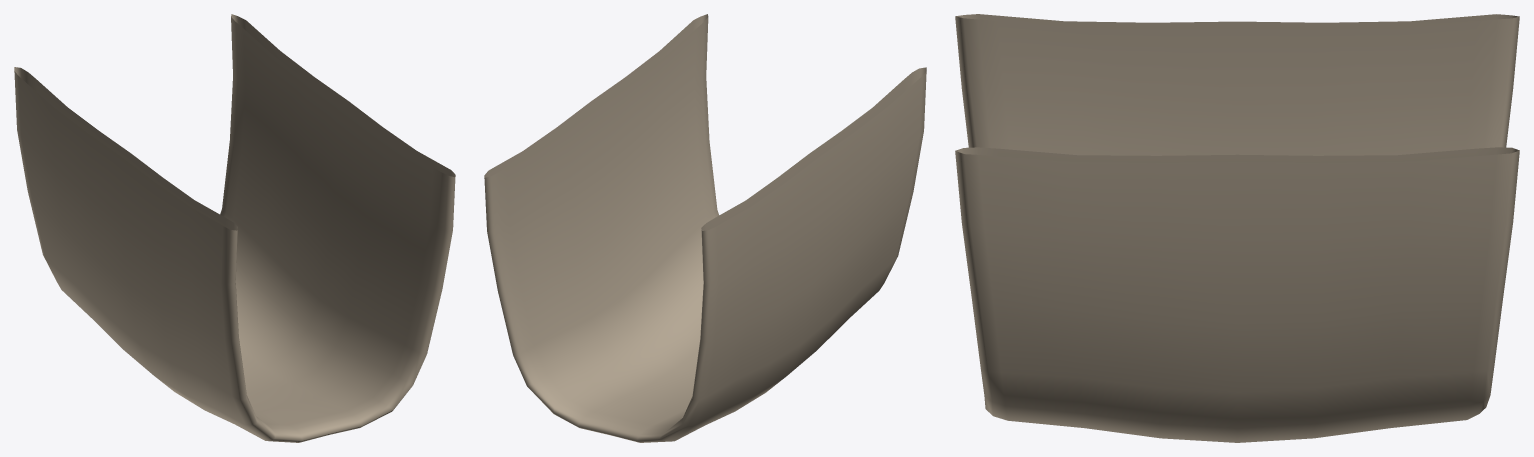
File: SM_Obstacle_NetBridge_2x4M.fbx
The picture shows the model from 3 angles, left to right: view 1: azimuth 30°, elevation 25°; view 2: azimuth 150°, elevation 25°; view 3: azimuth 270°, elevation 25°; orthographic projection. The views are drawn at different scales.
Parts seen in each view (by area): view 1: SM_Obstacle_NetBridge_2x4M; view 2: SM_Obstacle_NetBridge_2x4M; view 3: SM_Obstacle_NetBridge_2x4M.
Part boxes in pixels (box(x1,y1,x2,y2)): SM_Obstacle_NetBridge_2x4M: box(14, 14, 455, 442); SM_Obstacle_NetBridge_2x4M: box(484, 14, 926, 442); SM_Obstacle_NetBridge_2x4M: box(955, 14, 1519, 442).
Size of the model in its own units: 207 by 229 by 351.
